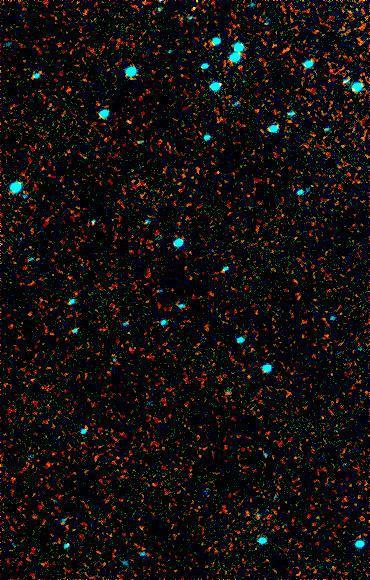star: (180, 0, 210, 22)
